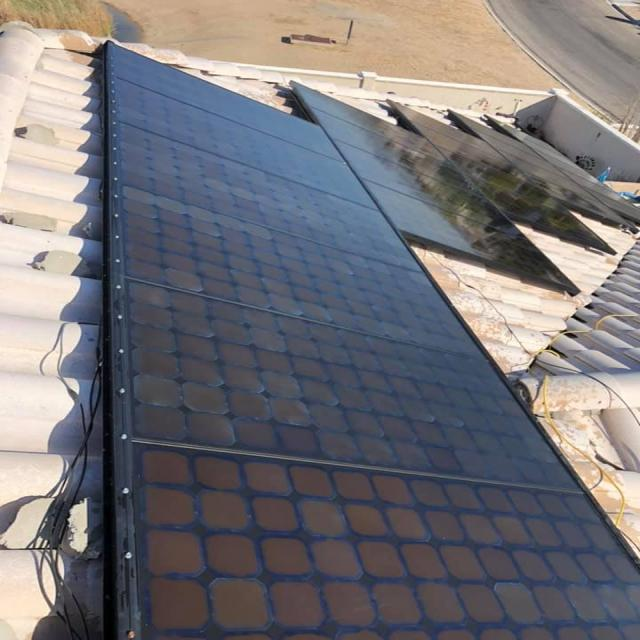dust-solar-panel: (107, 44, 638, 640)
